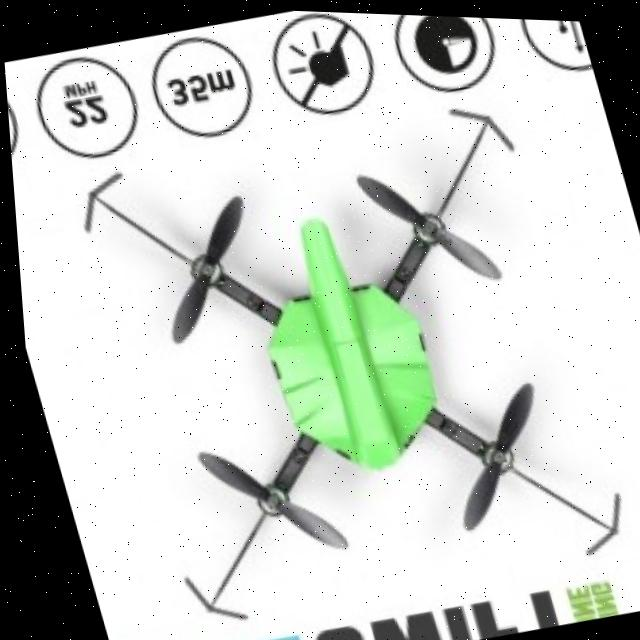drones: (28, 71, 637, 640)
